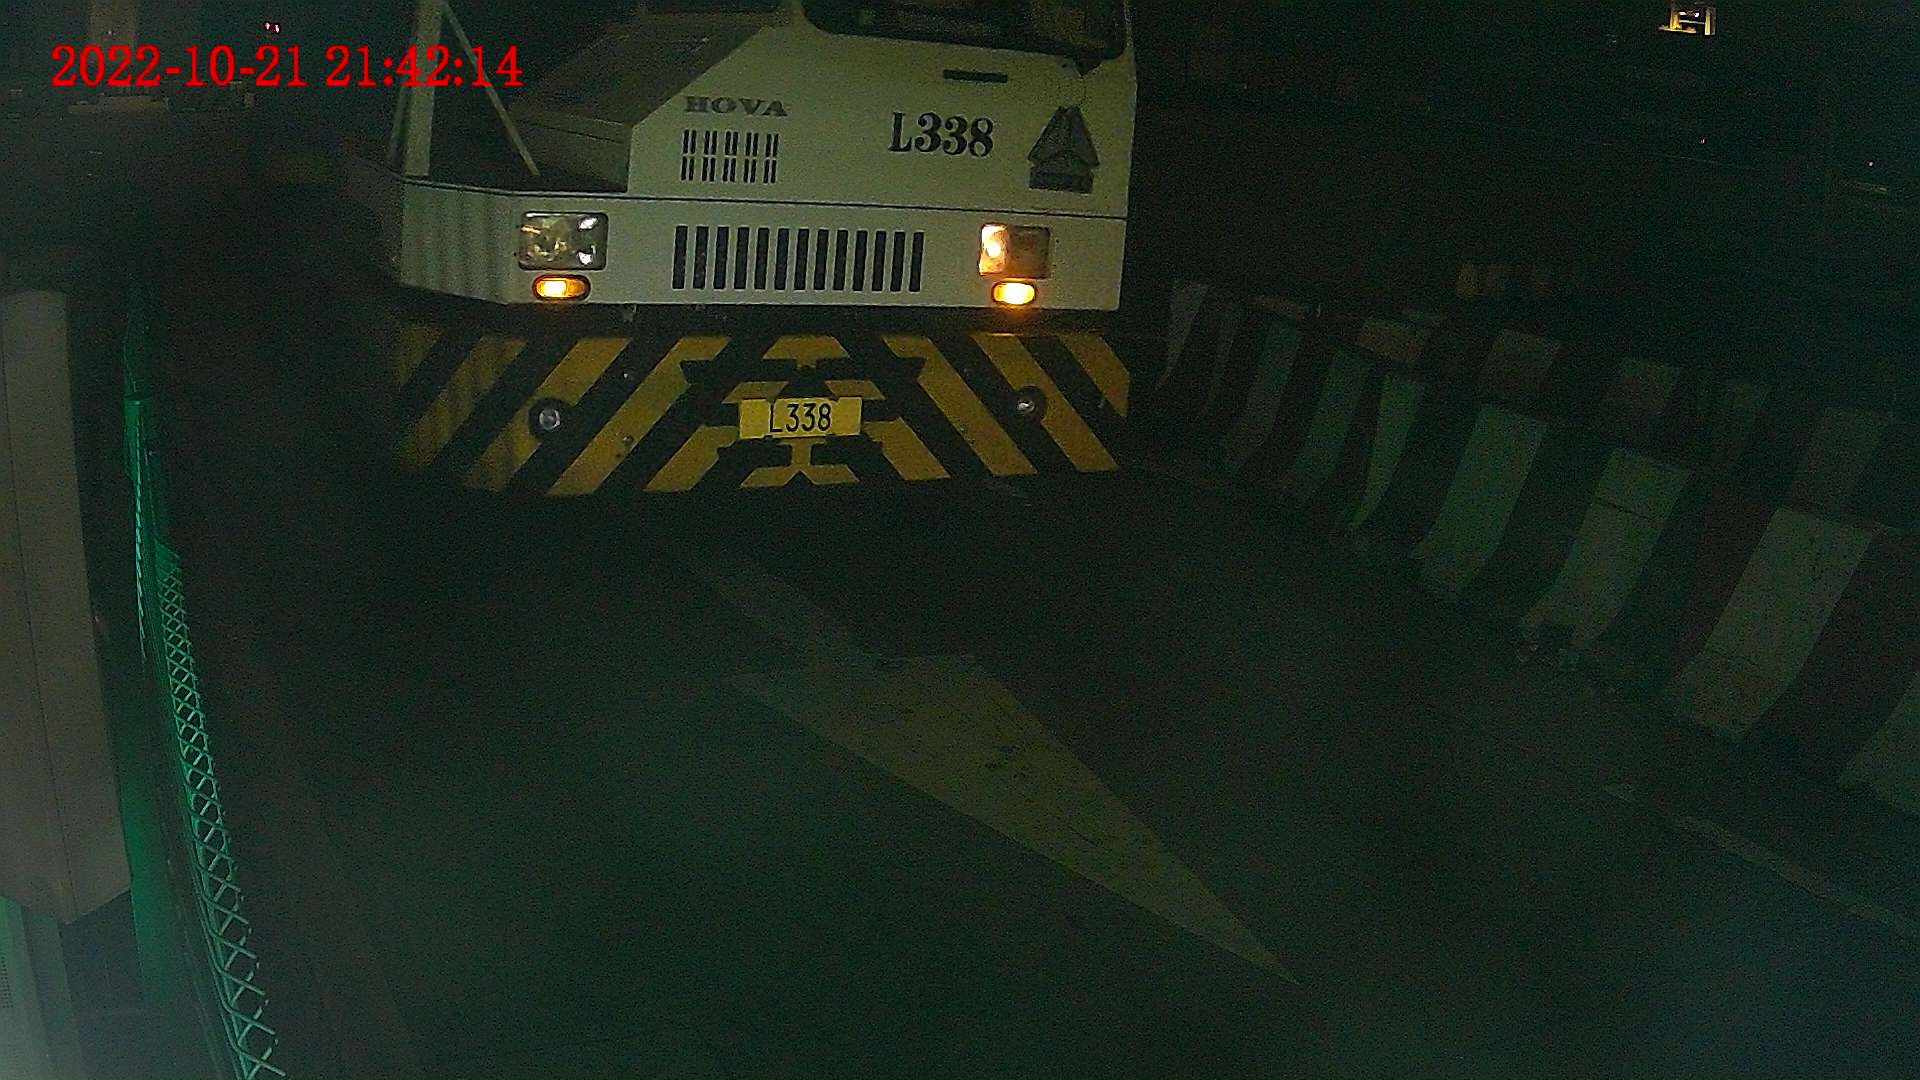head: (328, 1, 1150, 502)
plate: (741, 394, 860, 432)
